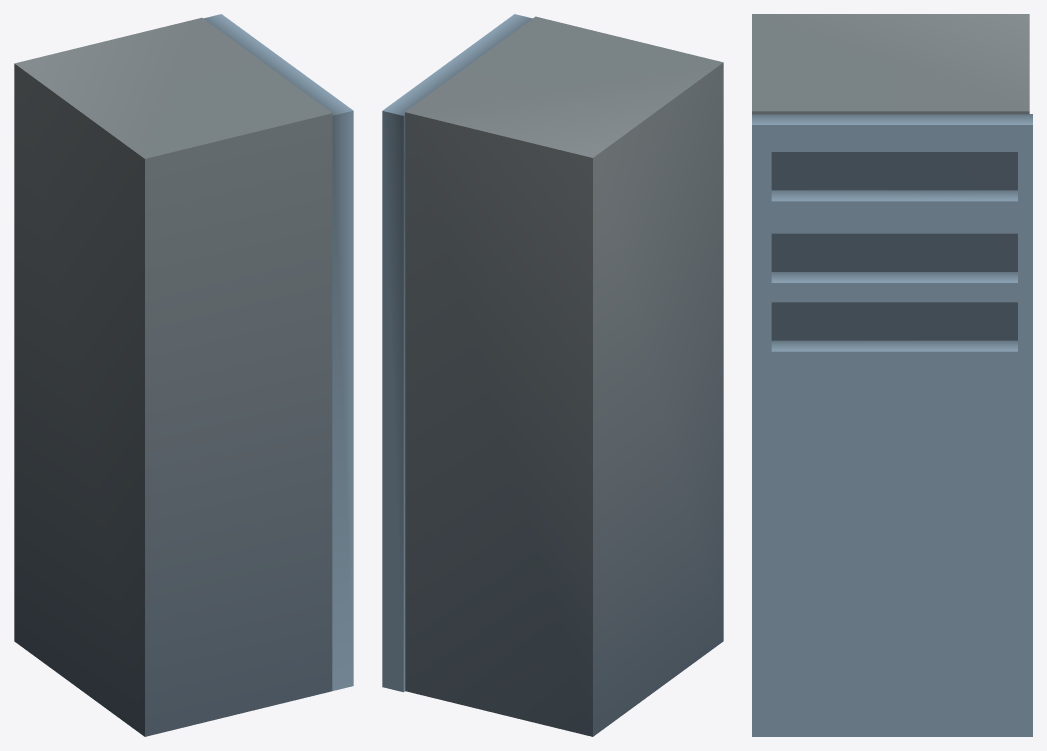
The model's file is Locker.fbx.
3 renders of one model, left to right at view 1: azimuth 30°, elevation 25°; view 2: azimuth 150°, elevation 25°; view 3: azimuth 270°, elevation 25°, orthographic. The views are drawn at different scales.
Visible parts, largest first — view 1: Cube, Cube.001; view 2: Cube, Cube.001; view 3: Cube.001, Cube.
Boxes of the visible parts, left/top/right/bottom form: Cube: left=14, top=17, right=332, bottom=736; Cube.001: left=203, top=14, right=353, bottom=690; Cube: left=405, top=16, right=723, bottom=736; Cube.001: left=382, top=14, right=532, bottom=692; Cube.001: left=752, top=114, right=1032, bottom=736; Cube: left=752, top=14, right=1029, bottom=340.
Bounding box in the file's own units: 222 × 588 × 244.
